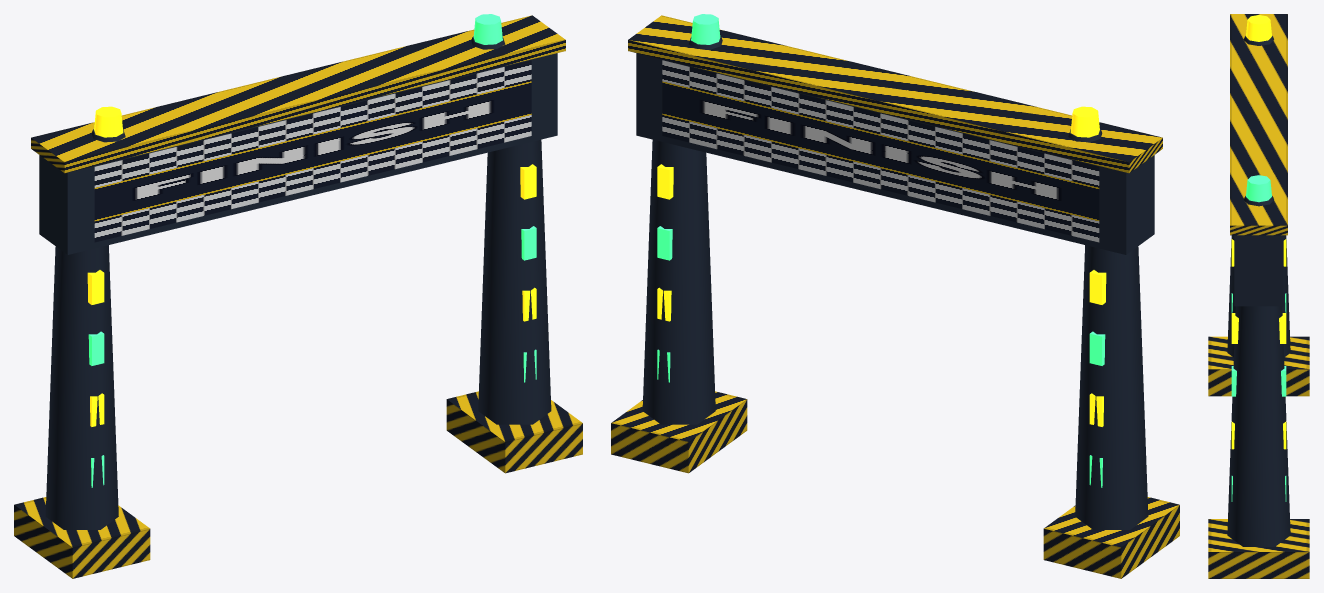
The model's file is finish_arch.glb.
The picture shows the model from 3 angles, left to right: view 1: azimuth 30°, elevation 25°; view 2: azimuth 150°, elevation 25°; view 3: azimuth 270°, elevation 25°; orthographic projection. The views are drawn at different scales.
Visible parts, largest first — view 1: finish_arch; view 2: finish_arch; view 3: finish_arch.
Boxes of the visible parts, x1,y1,x2,y2 form: finish_arch: (14,14,582,578); finish_arch: (611,14,1179,578); finish_arch: (1208,14,1309,578).
Bounding box in the file's own units: 5.78 × 4.65 × 1.15.
5 materials, 2 textured.
